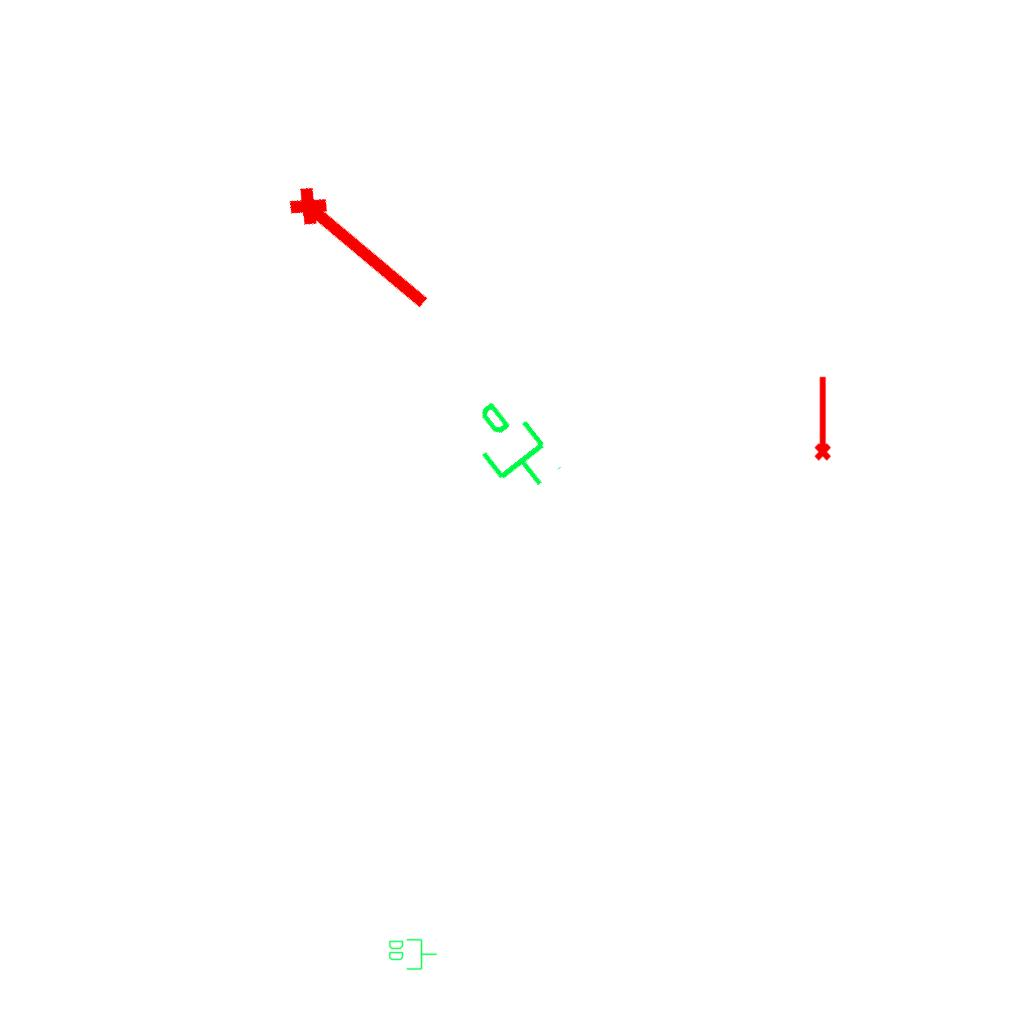ASR_Ansaugoeffnung: (279, 173, 445, 323), (810, 374, 833, 462)
Datenanschluss_einfach: (451, 387, 568, 509)
Datenanschluss_zweifach: (387, 937, 438, 971)
